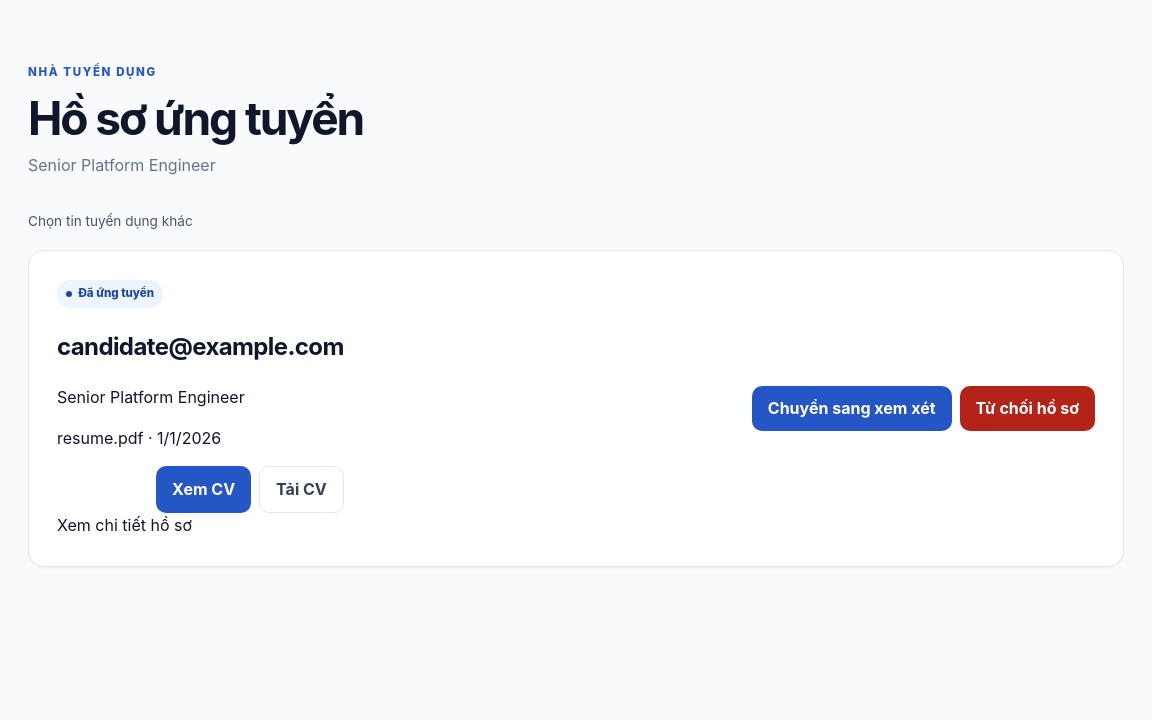
Test: UX journeys › exposes only valid Application transitions and confirms rejection once
Click the button "Từ chối hồ sơ": [1027, 408] box [960,386,1095,431]
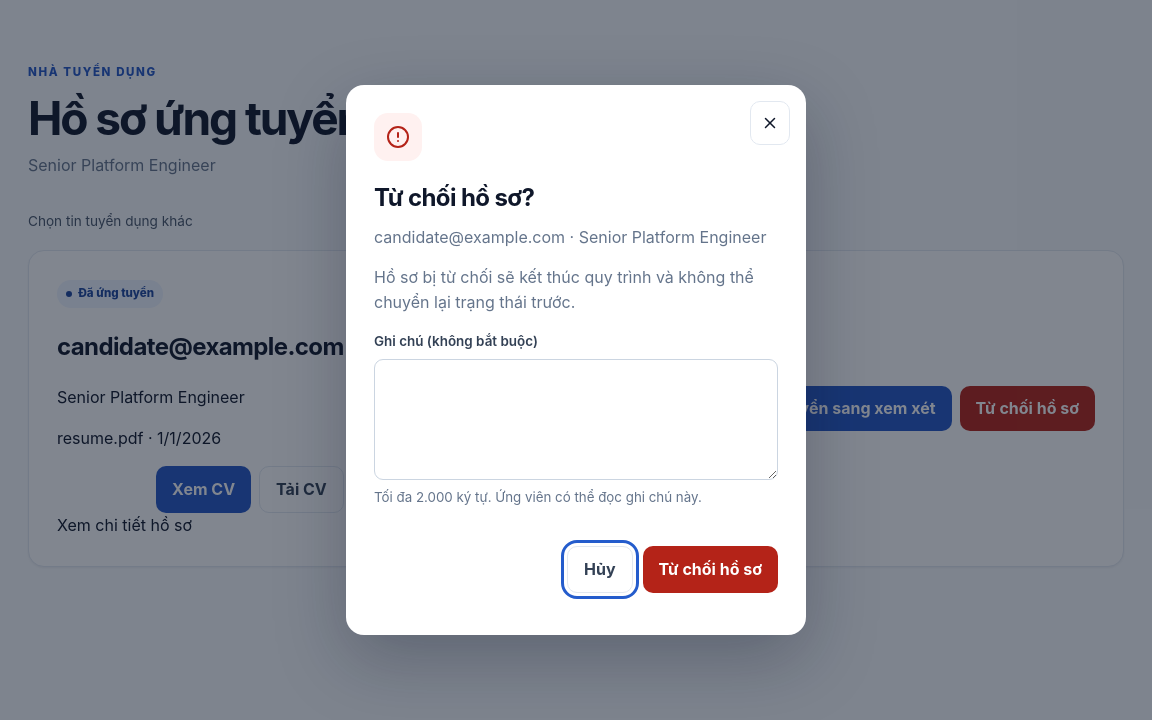
In the text box labelled "Ghi chú (không bắt buộc)": [576, 420] box [374,359,778,480], type "Chưa phù hợp"
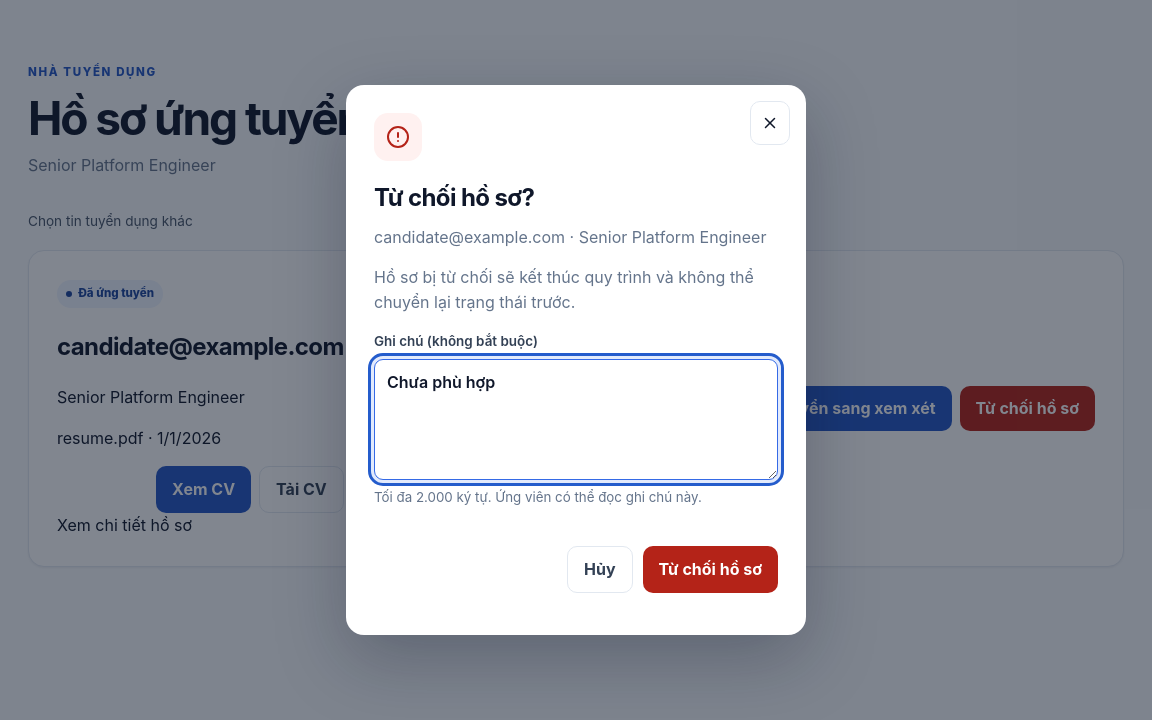
Click the button "Từ chối hồ sơ": [710, 569] box [642,546,778,592]
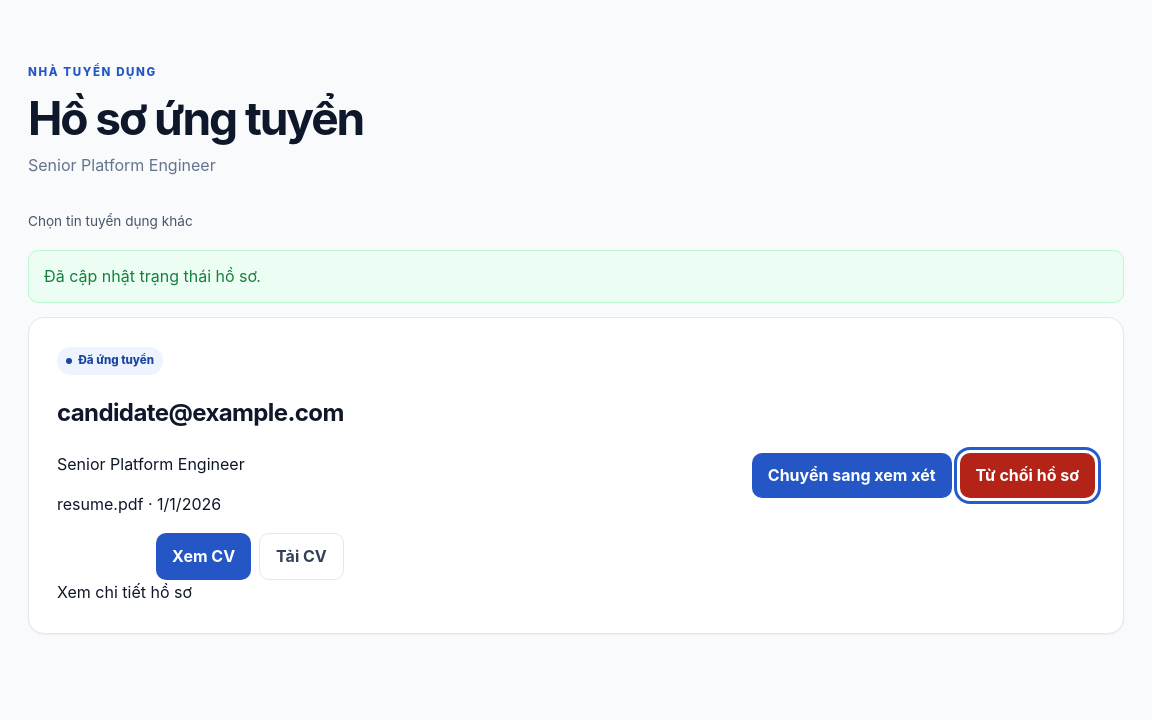
Expected: the text "Đã cập nhật trạng thái hồ sơ." is shown, [28,250,1124,303]
